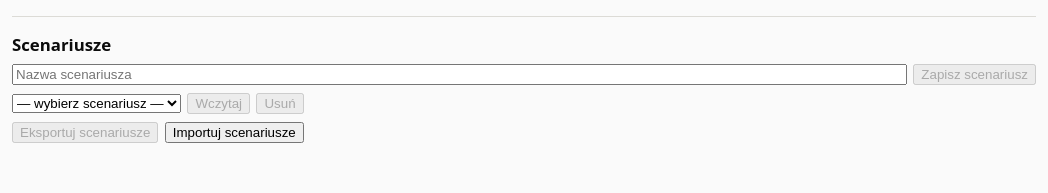
ScenarioBar › shows the persistence warning instead of Zapisano when setItem fails
The image size is (1048, 193).
Type "A" into the field labelled "Nazwa scenariusza" at [459, 74], box [12,64,907,85]
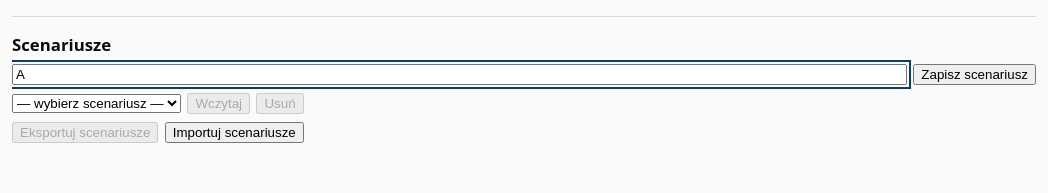
Click the button "Zapisz scenariusz" at [975, 74], box [913,64,1036,85]
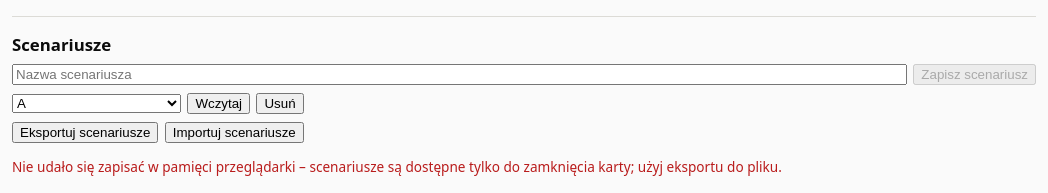
Check: the message shows "Nie udało się zapisać w pamięci przeglądarki", box [12,157,782,176]
